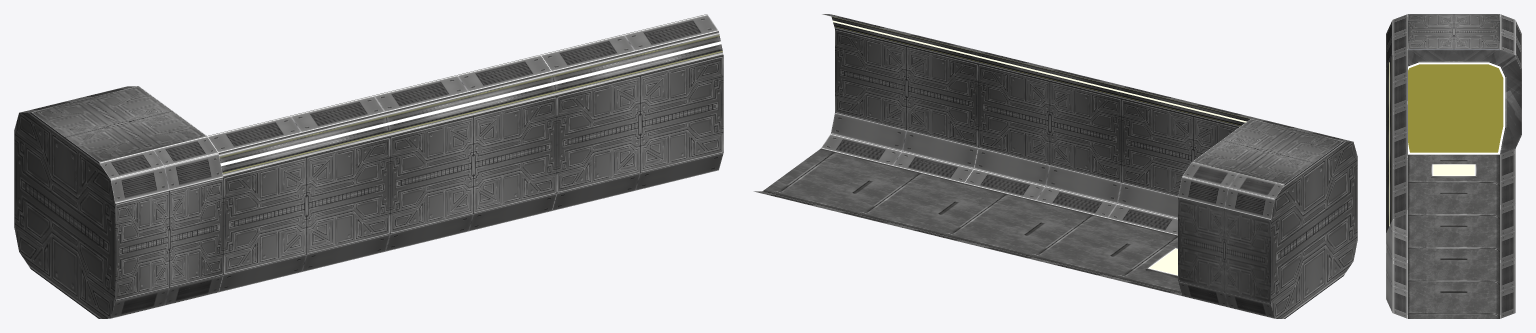
The model's file is Corridor.fbx.
The picture shows the model from 3 angles, left to right: view 1: azimuth 30°, elevation 25°; view 2: azimuth 150°, elevation 25°; view 3: azimuth 270°, elevation 25°; orthographic projection. The views are drawn at different scales.
Parts seen in each view (by area): view 1: Parede.008, Porta.003; view 2: Parede.008, Porta.003, Chao.007, Placa.008; view 3: Chao.007, PortaHolograma.002, Parede.008, Porta.003, Placa.008.
Part boxes in pixels (x1,y1,x2,y2): Parede.008: [207, 14, 723, 292]; Porta.003: [14, 86, 223, 318]; Parede.008: [753, 14, 1259, 295]; Porta.003: [1178, 119, 1357, 318]; Chao.007: [762, 148, 1181, 293]; Placa.008: [1145, 247, 1177, 278]; Chao.007: [1408, 154, 1499, 318]; PortaHolograma.002: [1408, 62, 1505, 154]; Parede.008: [1386, 49, 1515, 318]; Porta.003: [1386, 14, 1521, 154]; Placa.008: [1431, 164, 1476, 177].
Bounding box in the file's own units: 2061 × 507 × 593.
